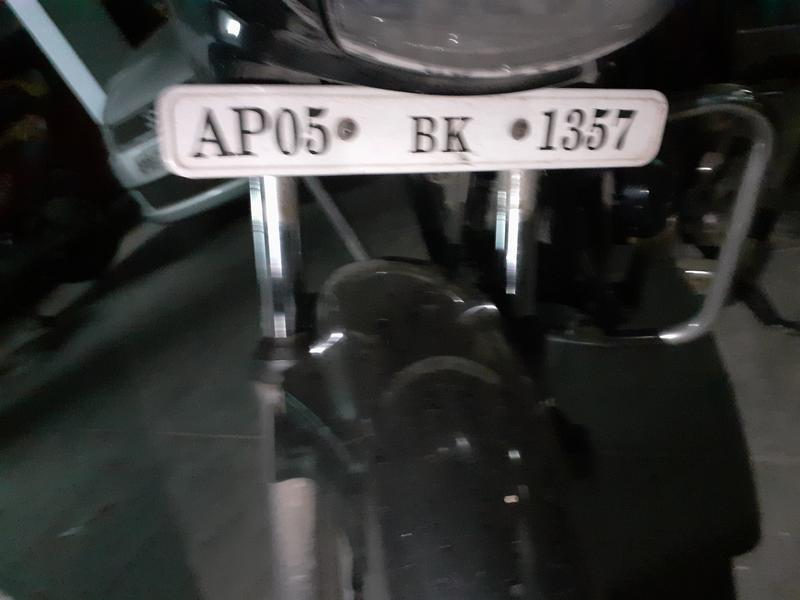numberplate: (147, 84, 678, 187)
